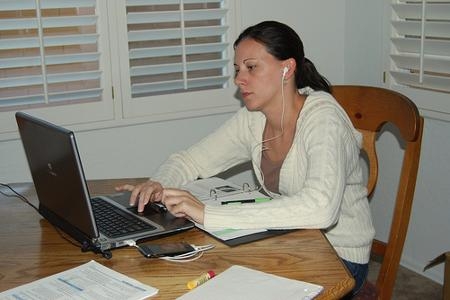person: (116, 22, 376, 298)
